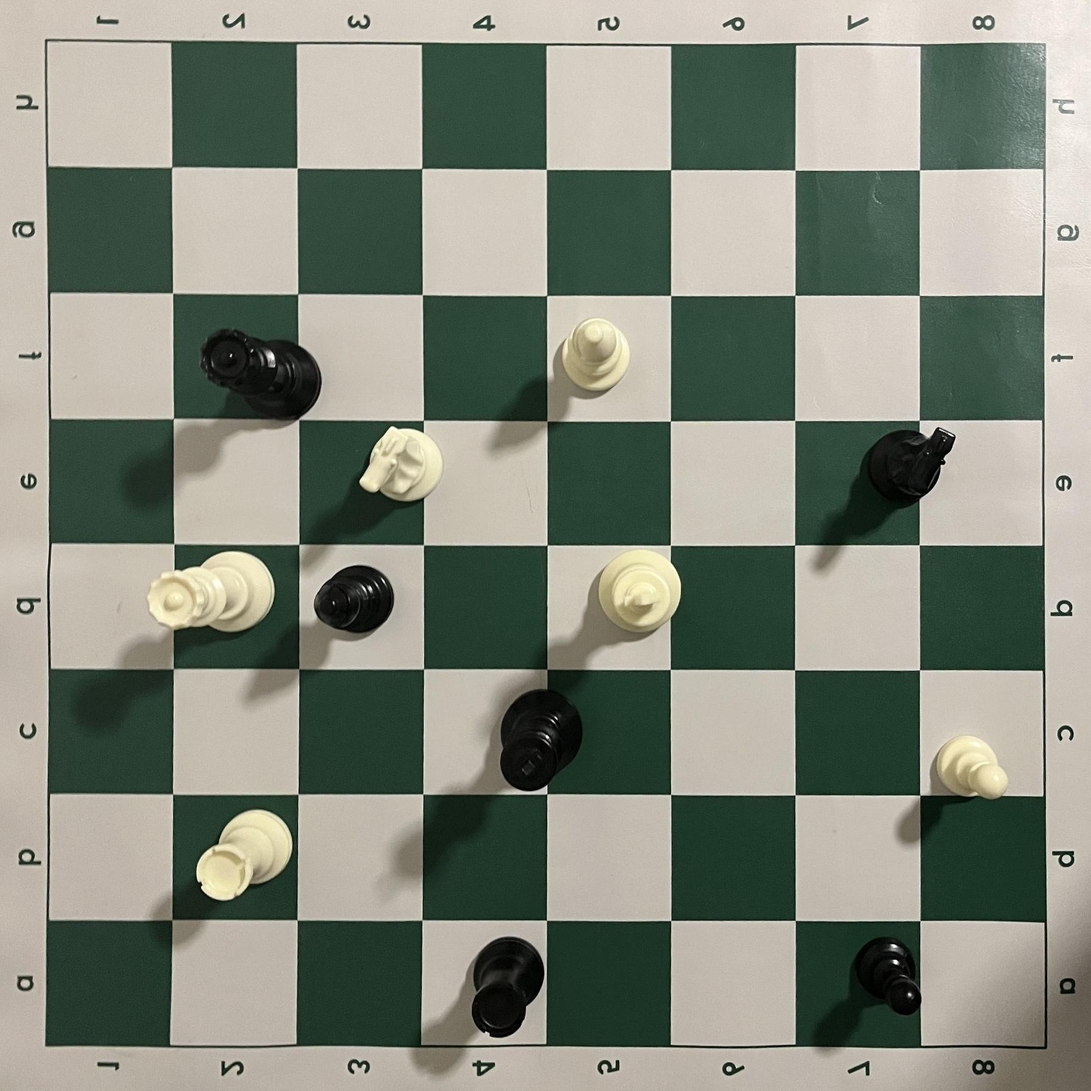black_bishop: (313, 564, 395, 634)
black_king: (499, 688, 583, 793)
black_knight: (866, 426, 956, 503)
black_pawn: (855, 937, 922, 1016)
black_queen: (199, 329, 322, 421)
black_rook: (472, 936, 547, 1039)
white_bishop: (561, 318, 631, 393)
white_king: (597, 549, 681, 636)
white_knight: (359, 425, 444, 503)
white_pawn: (933, 734, 1010, 800)
white_queen: (147, 550, 275, 634)
white_rook: (195, 809, 294, 902)
